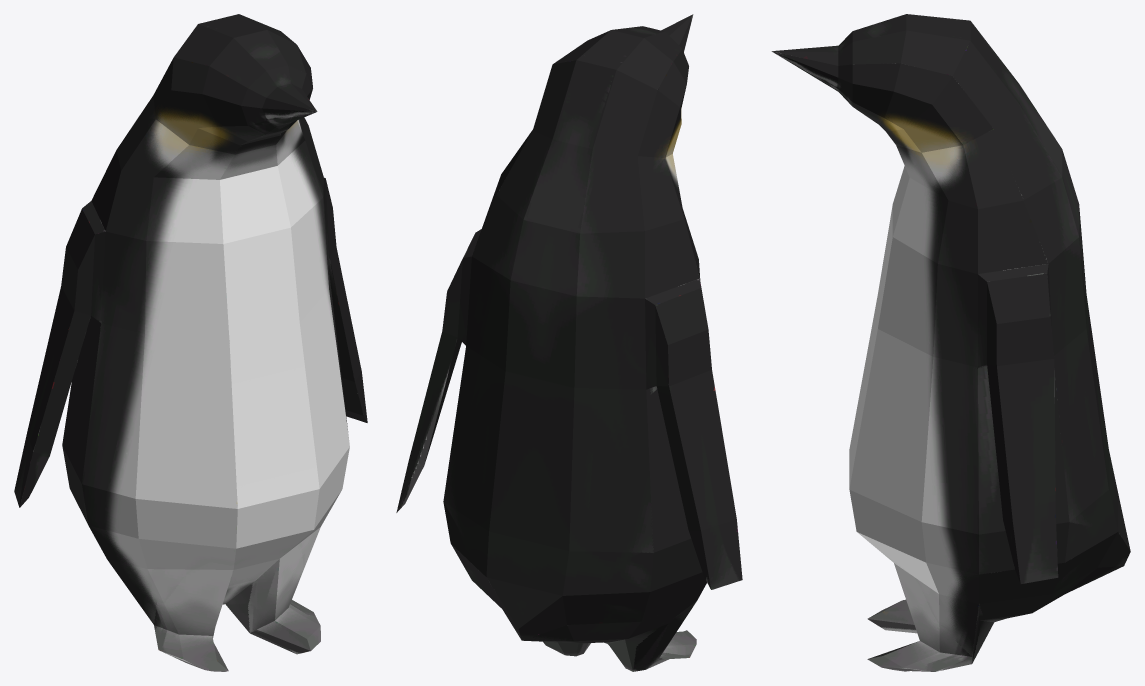
File: penguin 3d paint.fbx
The picture shows the model from 3 angles, left to right: view 1: azimuth 30°, elevation 25°; view 2: azimuth 150°, elevation 25°; view 3: azimuth 270°, elevation 25°; orthographic projection. The views are drawn at different scales.
Parts seen in each view (by area): view 1: node_id4; view 2: node_id4; view 3: node_id4.
Part boxes in pixels (box(x1,y1,x2,y2)): node_id4: box(14, 14, 367, 671); node_id4: box(396, 14, 742, 671); node_id4: box(771, 14, 1130, 671).
Size of the model in its own units: 0.3002 by 0.512 by 0.2667.
1 material, 1 textured.
